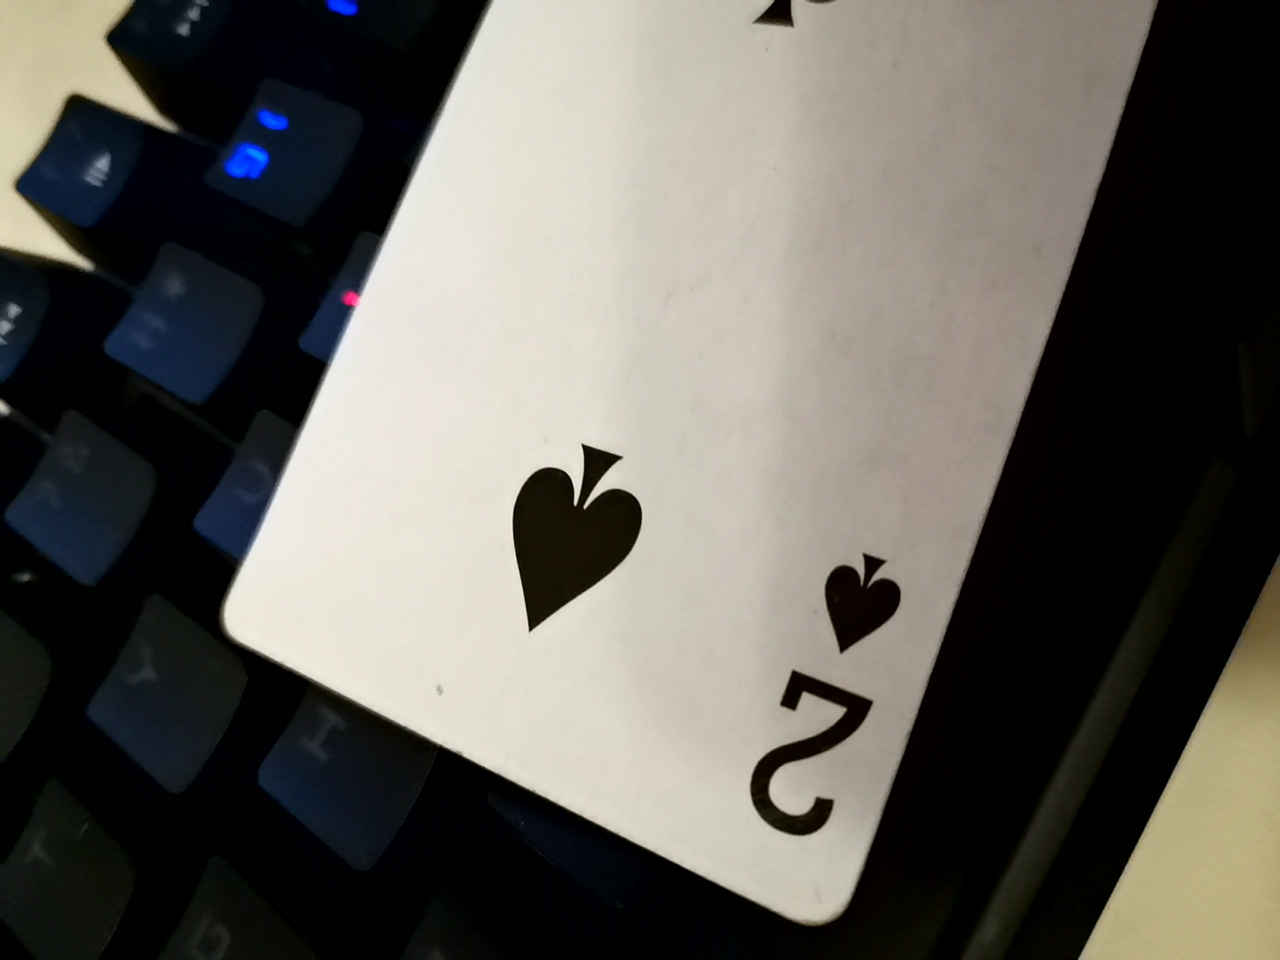ht 2: (180, 7, 1211, 948)
